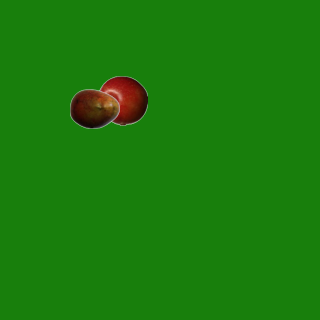Apple Braeburn: (97, 75, 147, 125)
Mango Red: (69, 83, 119, 133)
